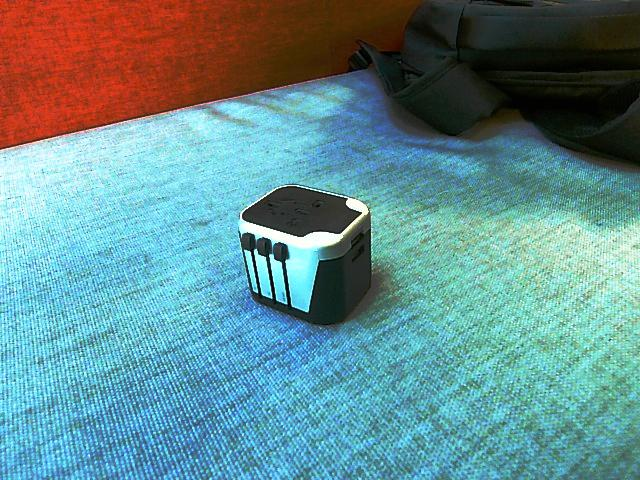adapter: (236, 183, 372, 325)
